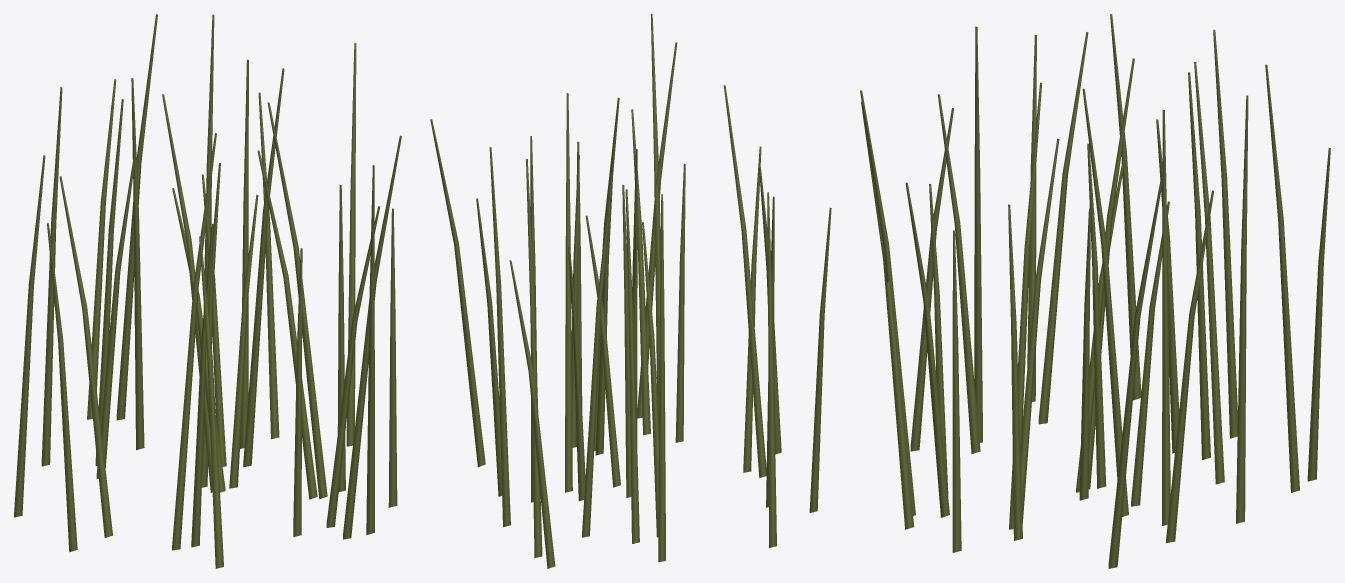
The model's file is caral_totora_lod0.glb.
The picture shows the model from 3 angles, left to right: view 1: azimuth 30°, elevation 25°; view 2: azimuth 150°, elevation 25°; view 3: azimuth 270°, elevation 25°; orthographic projection. The views are drawn at different scales.
Parts seen in each view (by area): view 1: GEO-Kit_totora_LOD0; view 2: GEO-Kit_totora_LOD0; view 3: GEO-Kit_totora_LOD0.
Part boxes in pixels (bbox=[...]): GEO-Kit_totora_LOD0: bbox=[14, 14, 401, 568]; GEO-Kit_totora_LOD0: bbox=[430, 14, 831, 568]; GEO-Kit_totora_LOD0: bbox=[860, 14, 1330, 568].
Size of the model in its own units: 2.26 by 2.41 by 2.32.
